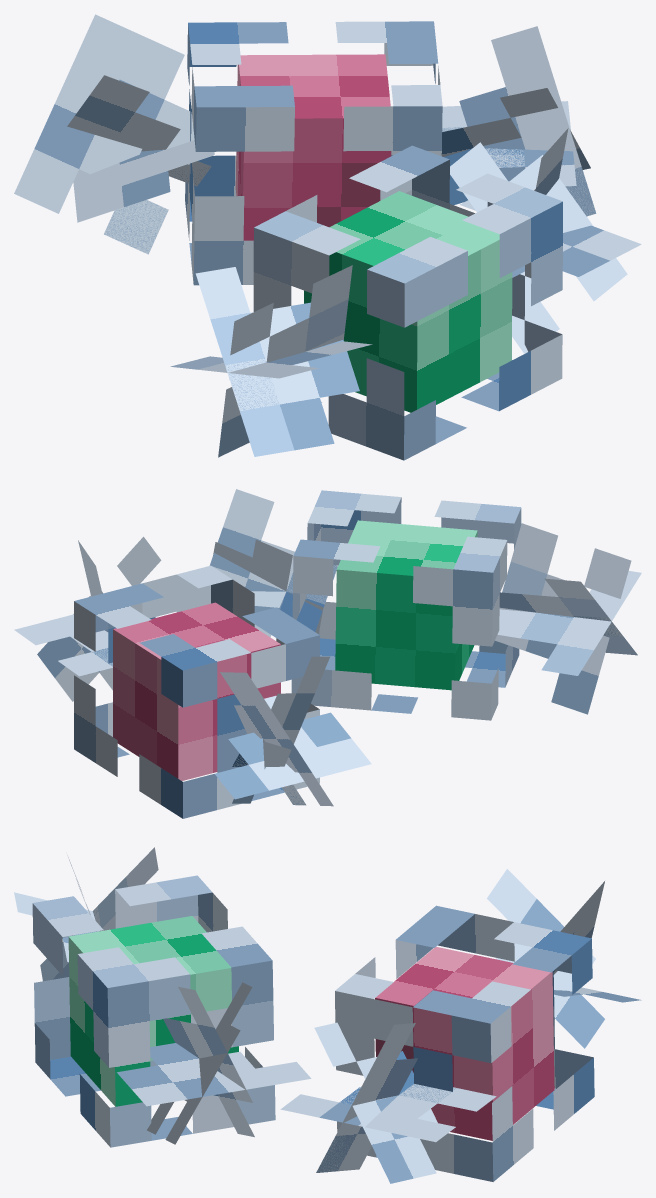
File: taffy.obj
3 views of the same model, one above another, from view 1: azimuth 30°, elevation 25°; view 2: azimuth 150°, elevation 25°; view 3: azimuth 270°, elevation 25° (orthographic). The views are drawn at different scales.
Visible parts, largest first — view 1: cube; view 2: cube; view 3: cube.
Boxes of the visible parts, bbox=[...] form: cube: bbox=[14, 14, 641, 460]; cube: bbox=[14, 489, 641, 818]; cube: bbox=[14, 847, 641, 1183].
Bounding box in the file's own units: 0.7935 × 0.3104 × 0.8939.
Materials: 1 (1 with a texture image).
